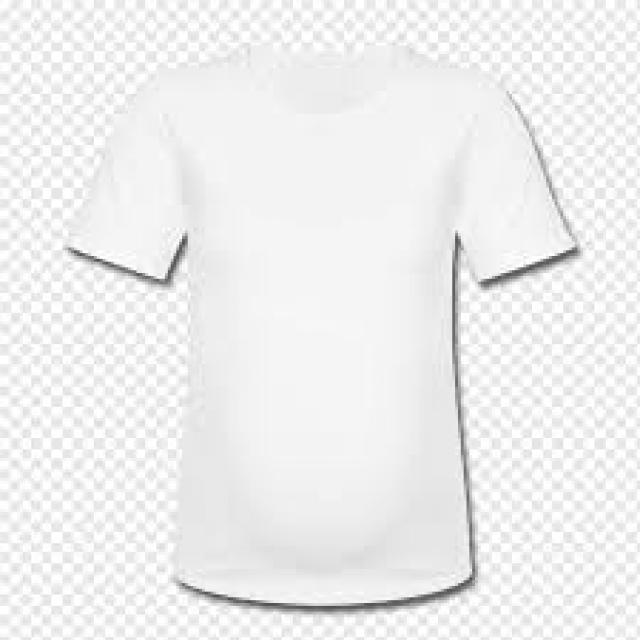Shirt: (69, 48, 583, 626)
